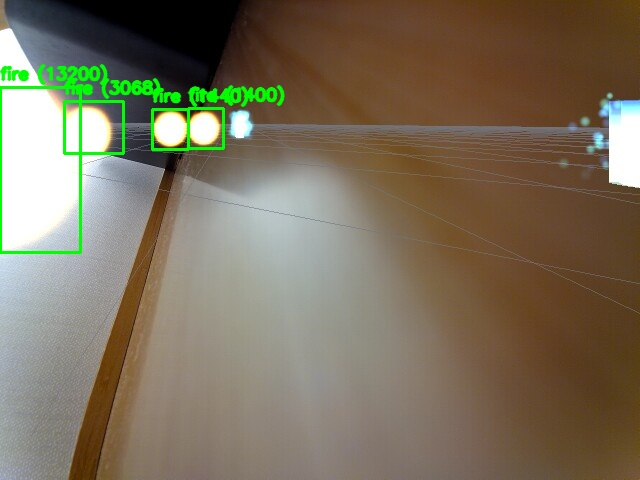fire: (0, 87, 80, 252), (64, 101, 123, 153), (152, 109, 188, 149), (188, 108, 223, 148)
